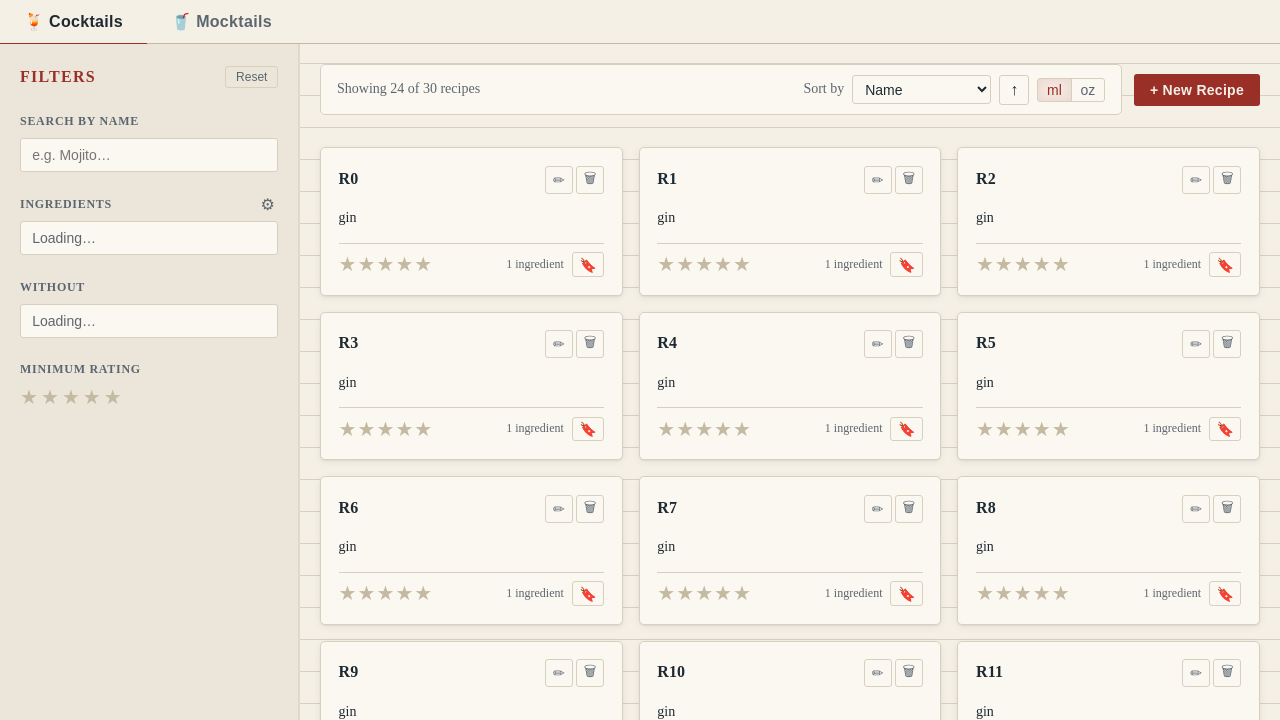
it: RecipesPage — infinite list › RecipesPage_filterChangeWhilePage2Loading_showsOnlyNewFilterResults
expect the heading "R0" is shown: met, box x1=339 y1=170 x2=358 y2=187
expect the button named "Delete R0" is shown: met, box x1=576 y1=166 x2=604 y2=194
Type "new" into the search field labelled "Search by name" at [149, 155], box x1=20 y1=138 x2=278 y2=172
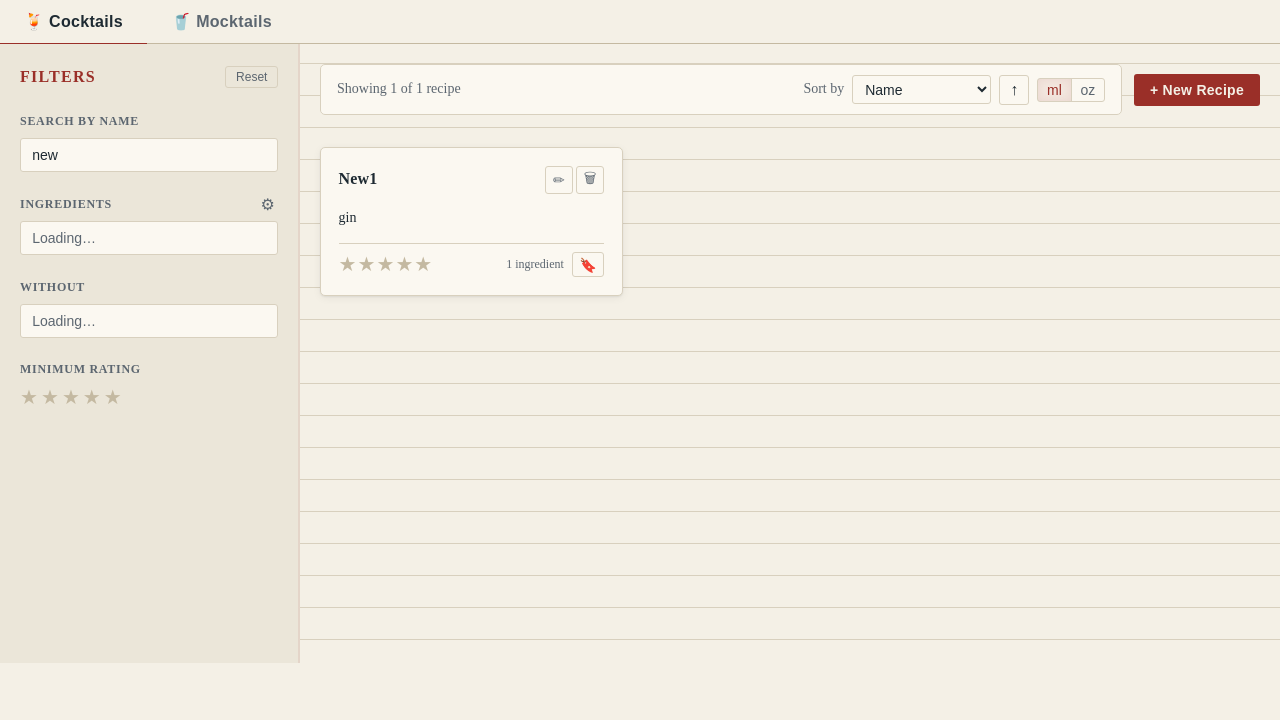
expect the heading "R0" is gone: met
expect the heading "New1" is shown: met, box x1=339 y1=170 x2=378 y2=187
